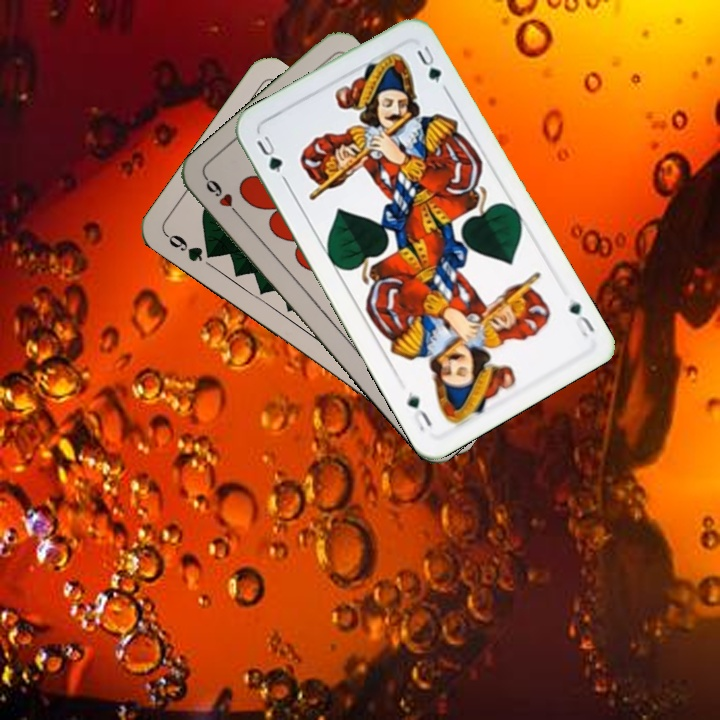G9: (161, 230, 219, 265)
GU: (252, 131, 285, 176), (565, 296, 597, 341)
H9: (201, 173, 245, 222)
